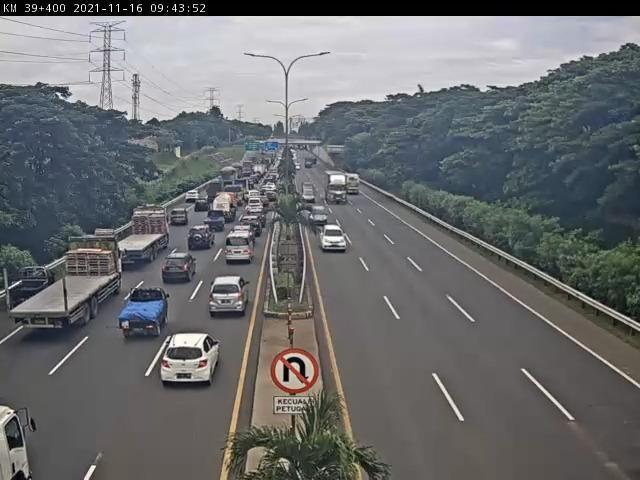car: (161, 335, 222, 389), (120, 289, 171, 339), (212, 277, 251, 314), (163, 253, 196, 283), (225, 234, 254, 264), (321, 223, 349, 253), (190, 226, 217, 253), (309, 206, 330, 228), (171, 207, 191, 227), (206, 210, 226, 230)
truck: (3, 237, 124, 333), (117, 203, 171, 263)
